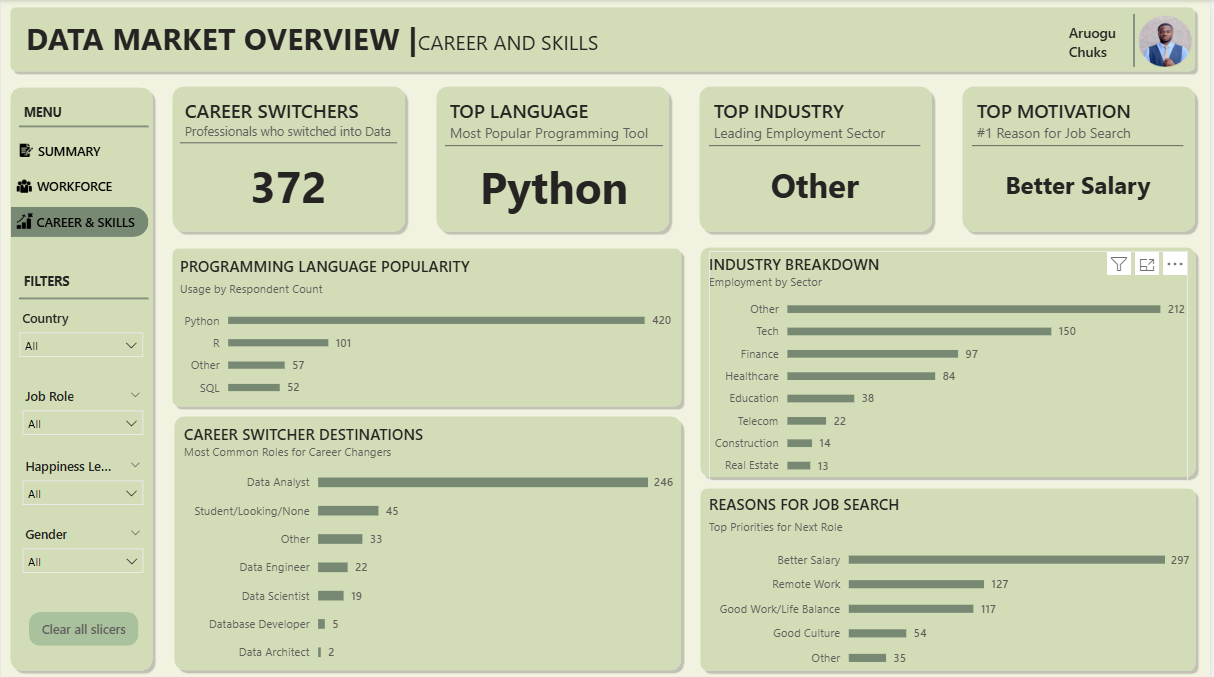

The page's visual inventory and layout, read from the dashboard file:
{"tool":"powerbi","page":{"name":"CAREER AND SKILLS","canvas":[1280,720],"ordinal":2},"visuals":[{"type":"image","box":[12.1,220,27.4,27.4],"z":0,"group":"g1"},{"type":"shape","box":[177.7,435.4,547.7,280],"z":0},{"type":"image","box":[12.6,182.1,25.8,28.4],"z":1000,"group":"g1"},{"type":"shape","box":[734.4,511.1,535.6,204.4],"z":1000},{"type":"image","box":[15.5,147.1,24.2,24.5],"z":2000,"group":"g1"},{"type":"shape","box":[175.4,256.9,550,178.5],"z":2000},{"type":"shape","box":[4.7,86.5,161.8,628.8],"z":3000},{"type":"shape","box":[4.7,2.4,1265.3,78.8],"z":4000},{"type":"shape","box":[176.2,86.2,257.5,165],"z":5000},{"type":"shape","box":[455,86.2,257.5,165],"z":6000},{"type":"shape","box":[733.8,86.2,257.5,165],"z":7000},{"type":"shape","box":[1012.5,86.2,257.5,165],"z":8000},{"type":"textbox","box":[12.4,12.4,998.8,61.2],"z":9000},{"type":"textbox","box":[18.8,105,131.2,32.5],"z":10000},{"type":"shape","box":[18.9,117.4,137.4,32.6],"z":11000},{"type":"shape","box":[1186.2,15,27.5,56.2],"z":12000},{"type":"textbox","box":[18.8,284.2,131.1,32.1],"z":13000},{"type":"shape","box":[18.9,300,137.4,32.6],"z":14000},{"type":"textbox","box":[1125.9,19.3,71.9,53.9],"z":15000},{"type":"actionButton","box":[29.2,647.5,115.8,35.8],"z":16000},{"type":"card","title":"CAREER SWITCHERS","fields":{"Values":["CountNonNull(Data Professional Survey.Q2 - Did you switch careers into Data?)"]},"box":[190,102.5,230,136.2],"z":17000},{"type":"card","title":"TOP LANGUAGE","fields":{"Values":["Data Professional Survey.Top Language"]},"box":[470,102.5,231.2,136.2],"z":18000},{"type":"card","title":"TOP INDUSTRY","fields":{"Values":["Data Professional Survey.Top Industry"]},"box":[750,102.5,223.8,136.2],"z":19000},{"type":"card","title":"TOP MOTIVATION","fields":{"Values":["Data Professional Survey.Top Search Driver"]},"box":[1028.4,102.2,224.1,136.2],"z":20000},{"type":"slicer","fields":{"Values":["Data Professional Survey.Q11 - Which Country do you live in?"]},"box":[9.9,323,150.5,61.5],"z":21000},{"type":"slicer","fields":{"Values":["Data Professional Survey.Q1 - Which Title Best Fits your Current Role?"]},"box":[12.4,405.6,147.6,74.4],"z":22000},{"type":"slicer","fields":{"Values":["Happiness Table.Happiness_Levels"]},"box":[12.4,480,147.6,62],"z":23000},{"type":"shape","box":[10.1,219,145.6,31.7],"z":24000},{"type":"actionButton","box":[29,147,87,24],"z":25000},{"type":"actionButton","box":[33.3,184.4,90,23.3],"z":26000},{"type":"actionButton","box":[28.9,222.2,122.2,24.4],"z":27000},{"type":"shape","box":[734.4,256.7,535.6,254.4],"z":28000},{"type":"barChart","title":"PROGRAMMING LANGUAGE POPULARITY","fields":{"Category":["Data Professional Survey.Q5 - Favorite Programming Language"],"Y":["CountNonNull(Data Professional Survey.Unique ID)"]},"box":[190,267.8,523.3,158.9],"z":29000},{"type":"barChart","title":"INDUSTRY BREAKDOWN","fields":{"Category":["Data Professional Survey.Q4 - What Industry do you work in?"],"Y":["CountNonNull(Data Professional Survey.Unique ID)"]},"box":[750,265.6,506.7,243.3],"z":30000},{"type":"barChart","title":"REASONS FOR JOB SEARCH","fields":{"Category":["Data Professional Survey.Q8 - If you were to look for a new job today, what would be the most important thing to you?"],"Y":["CountNonNull(Data Professional Survey.Unique ID)"]},"box":[750,520,508.9,194.4],"z":31000},{"type":"barChart","title":"CAREER SWITCHER DESTINATIONS","fields":{"Category":["Data Professional Survey.Q1 - Which Title Best Fits your Current Role?"],"Y":["CountNonNull(Data Professional Survey.Unique ID)"]},"box":[194,444,518,267],"z":32000},{"type":"group","id":"g1","title":"Group 1","box":[12.1,147.1,27.6,100.3],"z":33000},{"type":"image","box":[1200,10.6,65.6,65],"z":34000},{"type":"slicer","fields":{"Values":["Data Professional Survey.Q9 - Male/Female?"]},"box":[12.9,552.1,147.9,66.4],"z":35000}]}

Visuals, with their boxes in screenshot pixels (x1, y1, x2, y2), scaled from the page's 1280x720 canvas onto the 1214x677 screenshot:
image: rect(11, 207, 37, 233)
shape: rect(169, 409, 688, 673)
image: rect(12, 171, 36, 198)
shape: rect(697, 481, 1205, 673)
image: rect(15, 138, 38, 161)
shape: rect(166, 242, 688, 409)
shape: rect(4, 81, 158, 673)
shape: rect(4, 2, 1205, 76)
shape: rect(167, 81, 411, 236)
shape: rect(432, 81, 676, 236)
shape: rect(696, 81, 940, 236)
shape: rect(960, 81, 1205, 236)
textbox: rect(12, 12, 959, 69)
textbox: rect(18, 99, 142, 129)
shape: rect(18, 110, 148, 141)
shape: rect(1125, 14, 1151, 67)
textbox: rect(18, 267, 142, 297)
shape: rect(18, 282, 148, 313)
textbox: rect(1068, 18, 1136, 69)
actionButton: rect(28, 609, 138, 642)
"CAREER SWITCHERS" card: rect(180, 96, 398, 224)
"TOP LANGUAGE" card: rect(446, 96, 665, 224)
"TOP INDUSTRY" card: rect(711, 96, 924, 224)
"TOP MOTIVATION" card: rect(975, 96, 1188, 224)
slicer - Data Professional Survey.Q11 - Which Country do you live in?: rect(9, 304, 152, 362)
slicer - Data Professional Survey.Q1 - Which Title Best Fits your Current Role?: rect(12, 381, 152, 451)
slicer - Happiness Table.Happiness_Levels: rect(12, 451, 152, 510)
shape: rect(10, 206, 148, 236)
actionButton: rect(28, 138, 110, 161)
actionButton: rect(32, 173, 117, 195)
actionButton: rect(27, 209, 143, 232)
shape: rect(697, 241, 1205, 481)
"PROGRAMMING LANGUAGE POPULARITY" barChart: rect(180, 252, 677, 401)
"INDUSTRY BREAKDOWN" barChart: rect(711, 250, 1192, 479)
"REASONS FOR JOB SEARCH" barChart: rect(711, 489, 1194, 672)
"CAREER SWITCHER DESTINATIONS" barChart: rect(184, 417, 675, 669)
"Group 1" group: rect(11, 138, 38, 233)
image: rect(1138, 10, 1200, 71)
slicer - Data Professional Survey.Q9 - Male/Female?: rect(12, 519, 153, 582)
